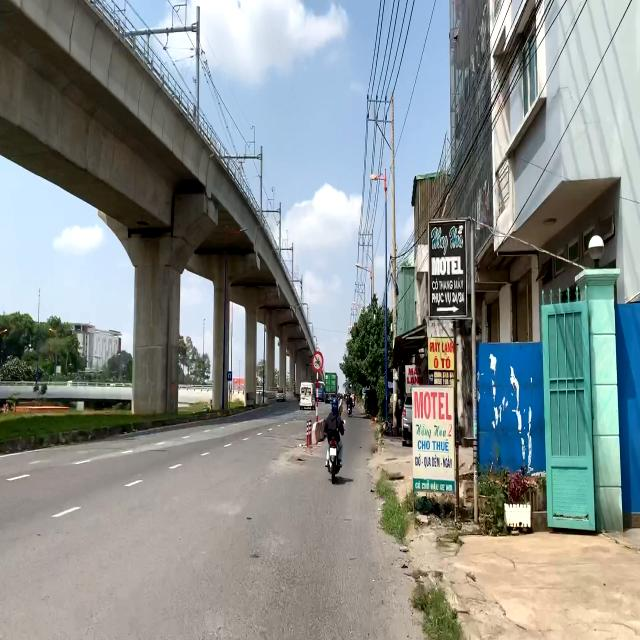P.104: (312, 352, 323, 372)
R.409: (227, 371, 232, 381)
